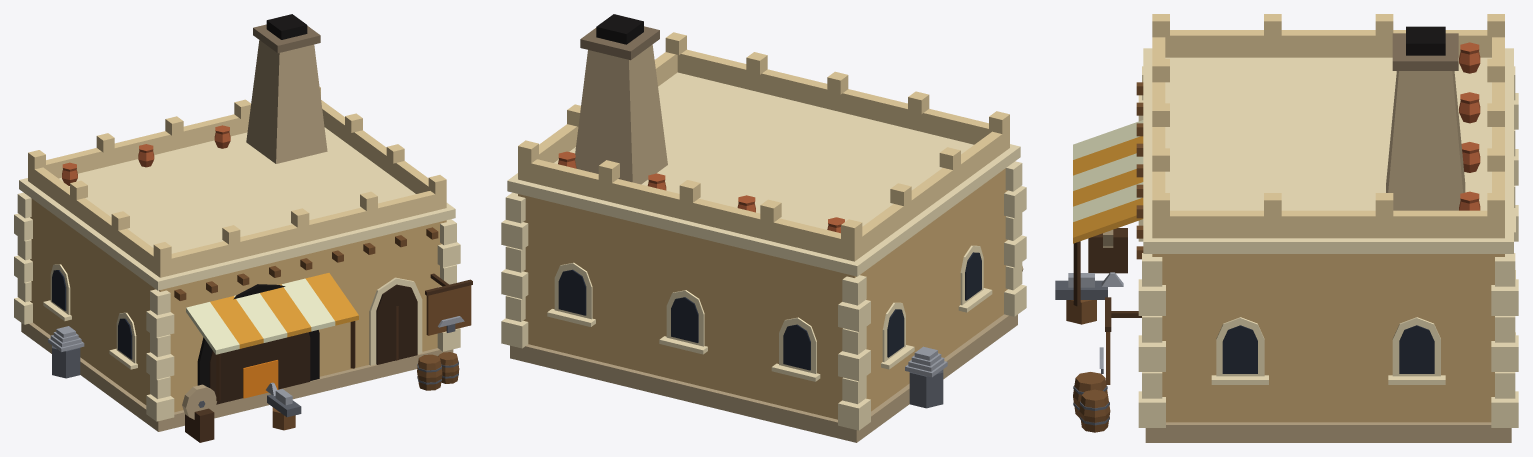
The model's file is blacksmith.fbx.
3 views of the same model, side by side, from view 1: azimuth 30°, elevation 25°; view 2: azimuth 150°, elevation 25°; view 3: azimuth 270°, elevation 25° (orthographic). The views are drawn at different scales.
Visible parts, largest first — view 1: blacksmith; view 2: blacksmith; view 3: blacksmith.
Boxes of the visible parts, x1=… form: blacksmith: x1=14, y1=14, x2=472, y2=442; blacksmith: x1=501, y1=14, x2=1026, y2=442; blacksmith: x1=1055, y1=14, x2=1518, y2=442.
Bounding box in the file's own units: 11.21 × 9.2 × 10.51.
Materials: 1 (1 with a texture image).
